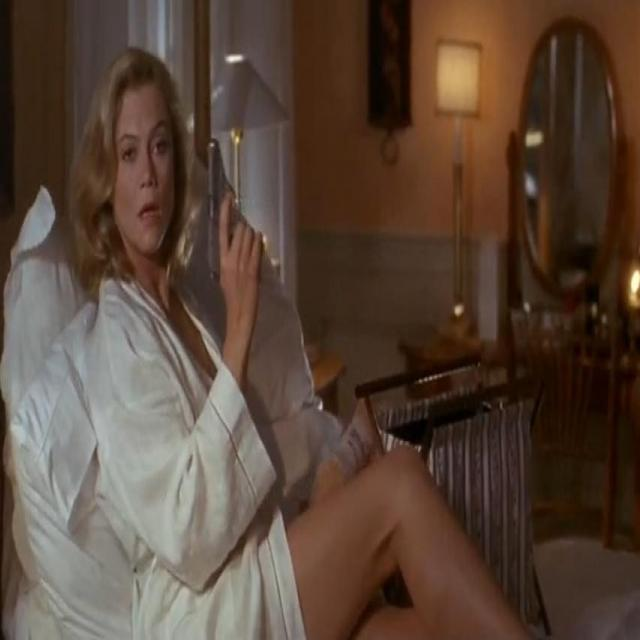gun-knife-thesis - v11 Yolov5 augmented: (183, 115, 247, 355)
